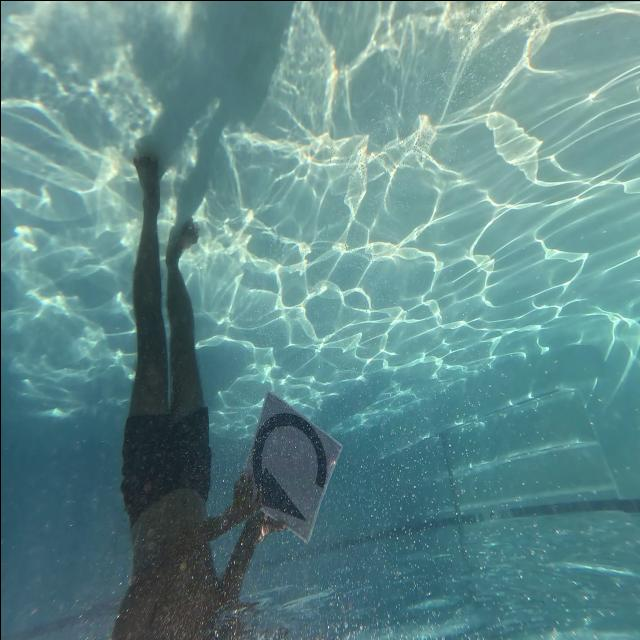blue_side: (252, 398, 333, 544)
